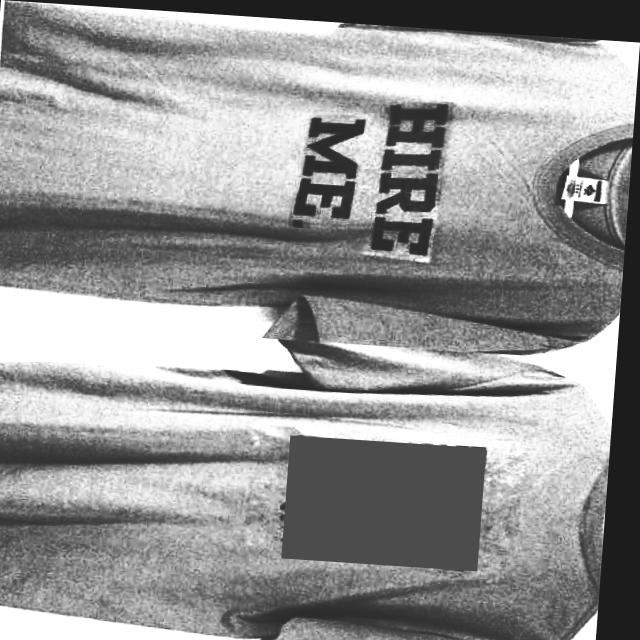qr_code: (289, 431, 492, 564)
